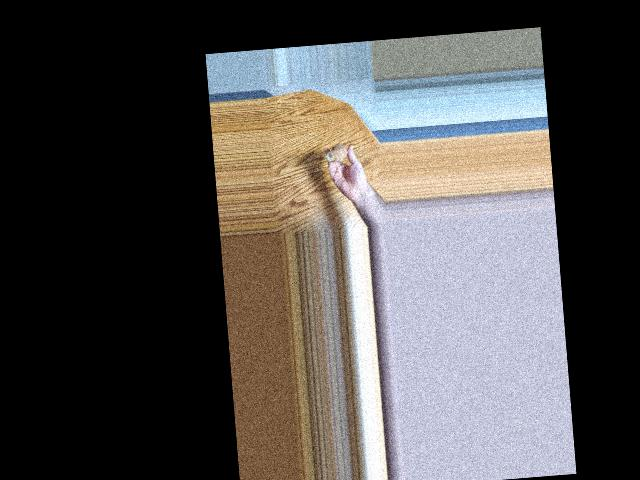sweet_potato: (324, 136, 351, 162)
